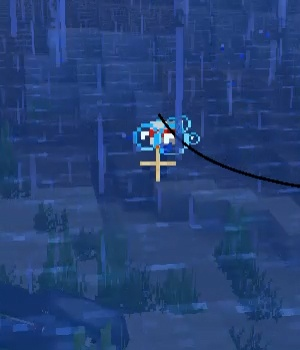up: (144, 115, 178, 160)
